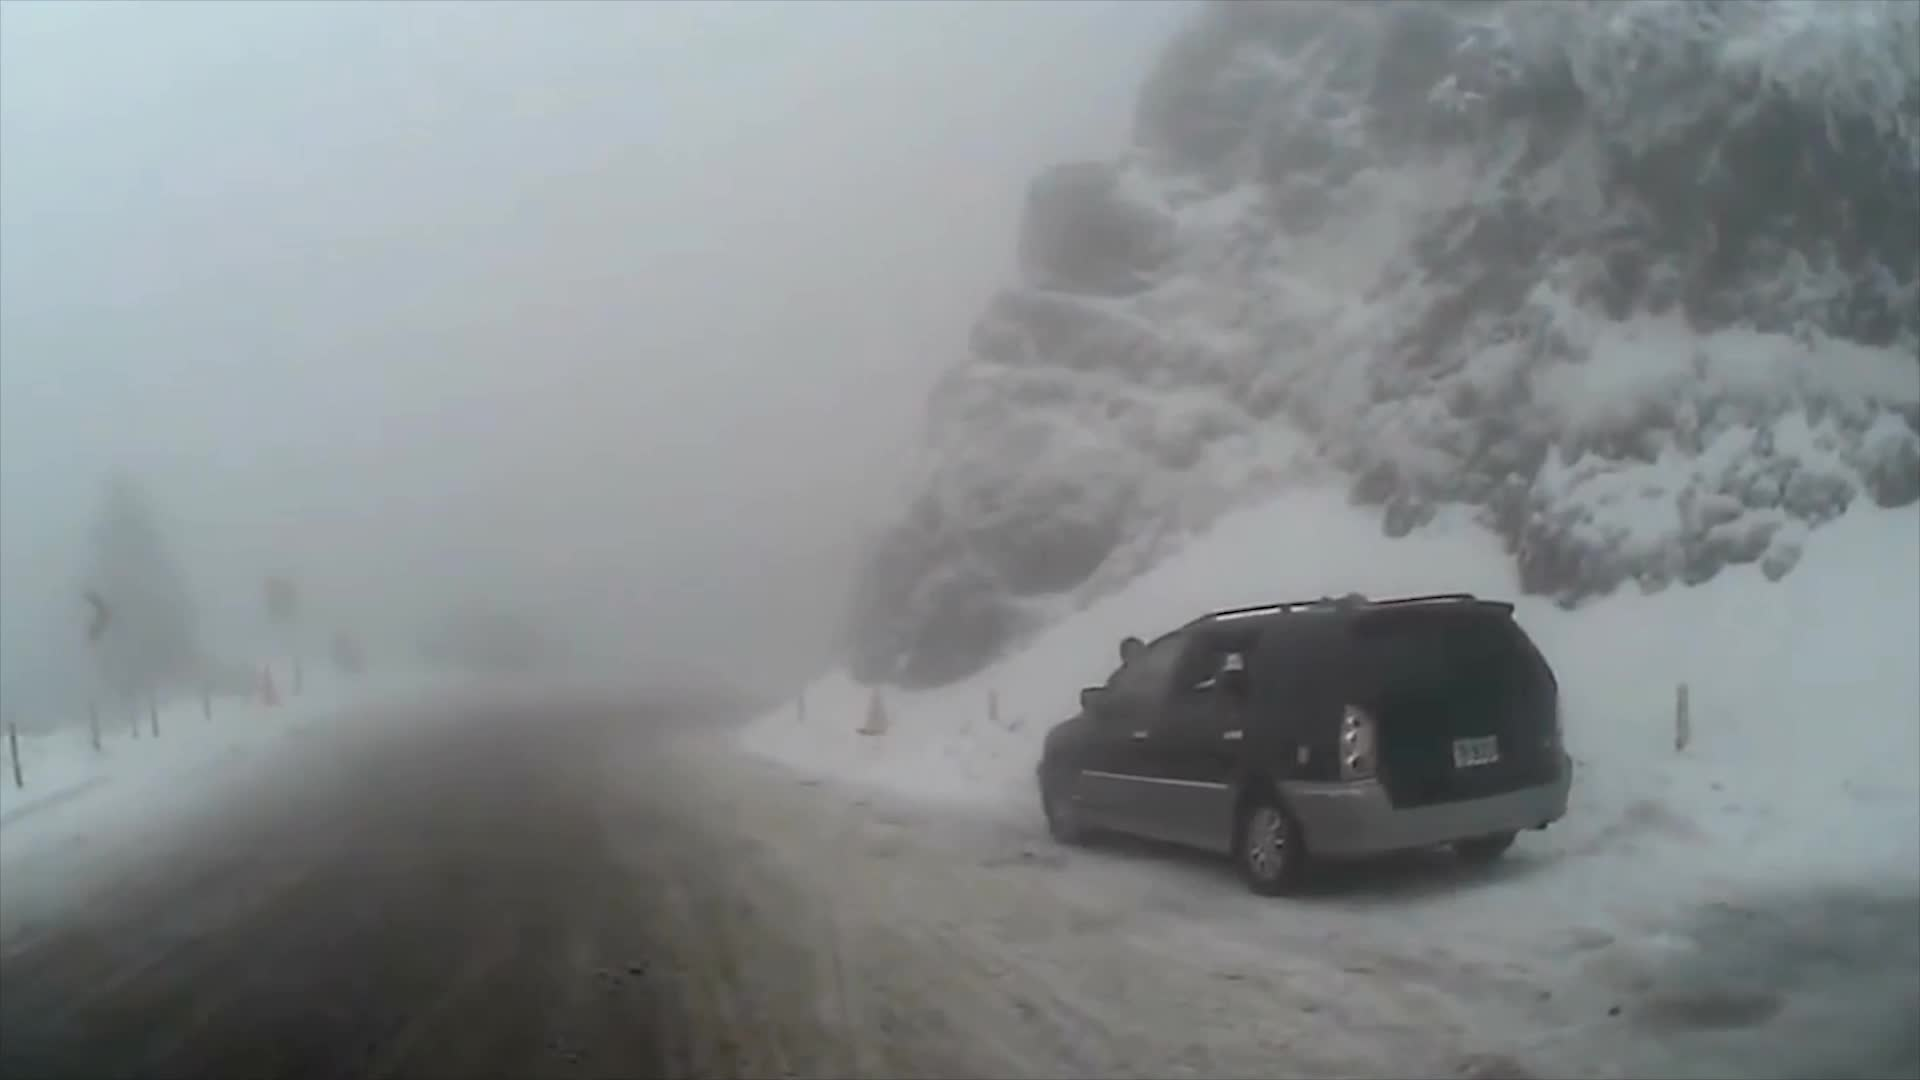vehicle: (1036, 591, 1576, 899)
